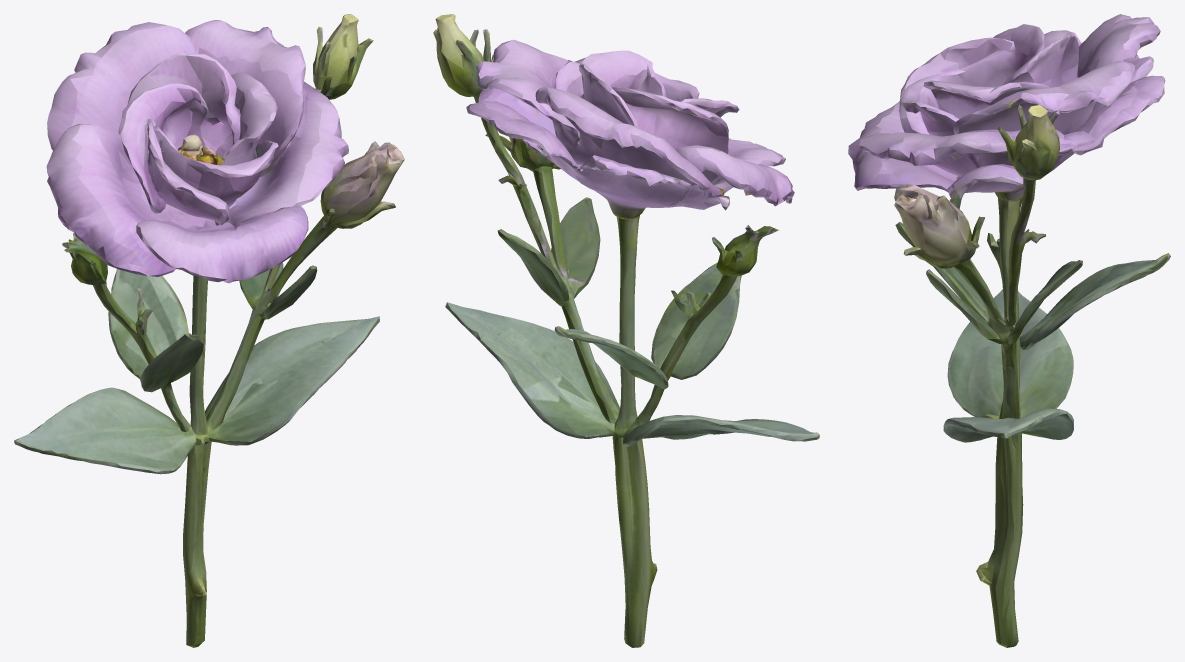
File: lux-lisianthus.glb
3 views of the same model, side by side, from view 1: azimuth 30°, elevation 25°; view 2: azimuth 150°, elevation 25°; view 3: azimuth 270°, elevation 25° (orthographic). The views are drawn at different scales.
Visible parts, largest first — view 1: geometry_0; view 2: geometry_0; view 3: geometry_0.
Boxes of the visible parts, <box> form: geometry_0: <box>14,14,404,647</box>; geometry_0: <box>433,14,819,647</box>; geometry_0: <box>848,14,1170,647</box>.
Bounding box in the file's own units: 0.3962 × 0.6 × 0.2791.
1 material, 1 textured.
